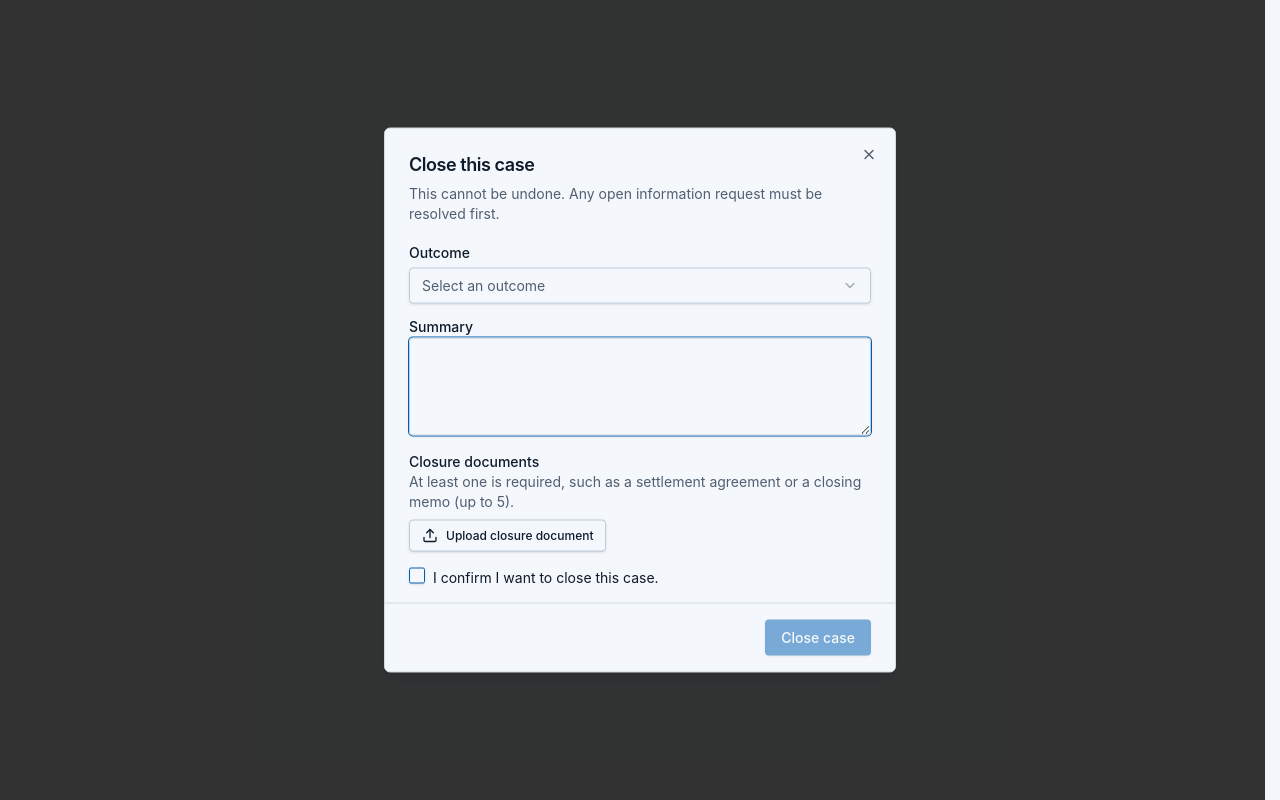
Test: useCloseCase › a stubbed 409 (open information requests) leaves the dialog open with the backend message
Later steps or results of the test are not shown.
Click the dropdown labelled "Select an outcome" at (484,285), box [409,267,871,303]
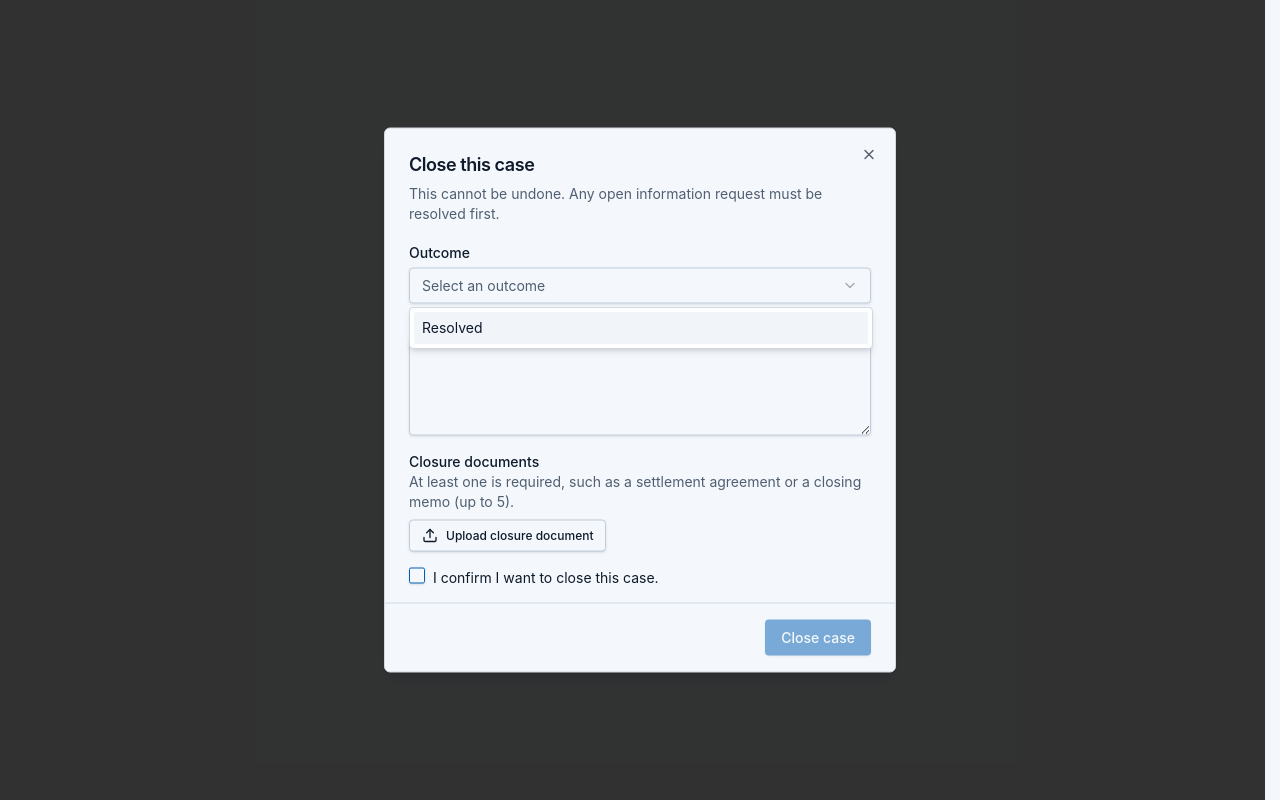
Click the option "Resolved" at (452,328), box [414,312,868,344]
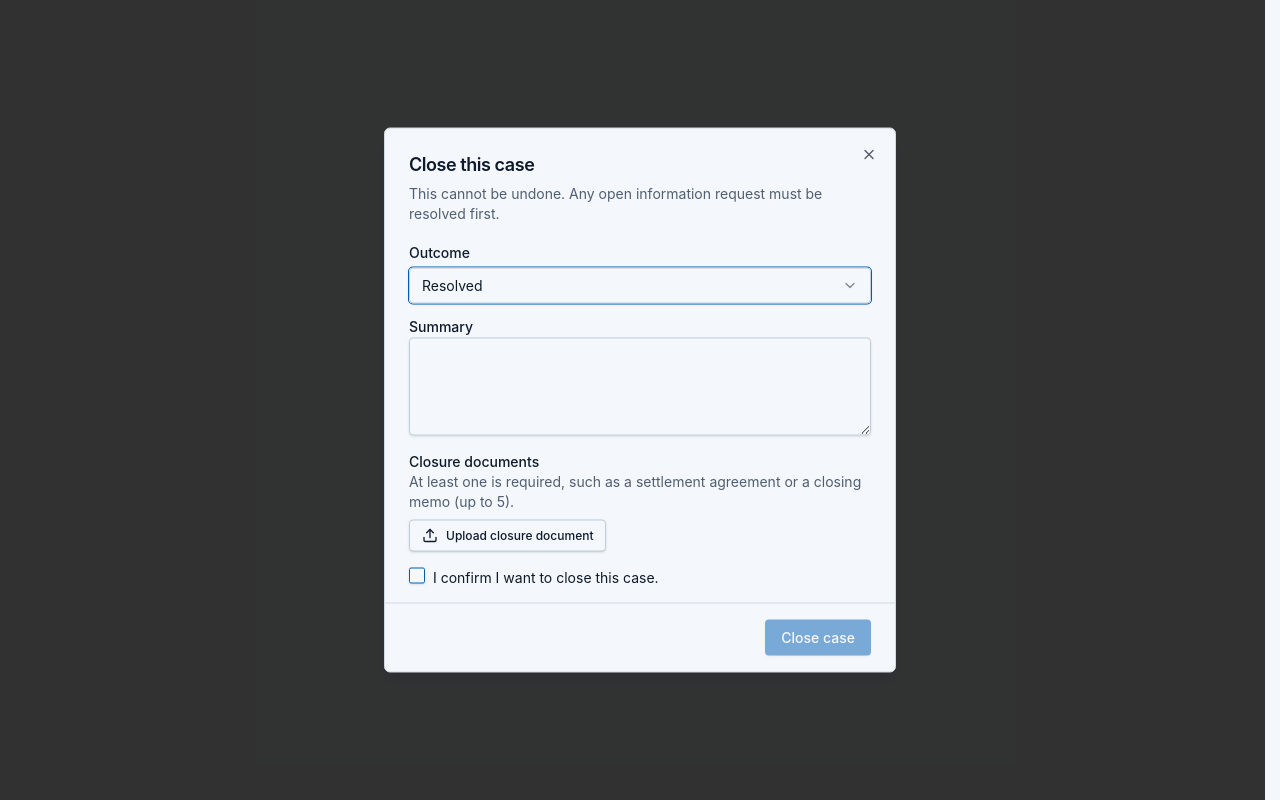
Type "Resolved by refund" into the text box labelled "Summary" at (640,386), box [409,337,871,435]
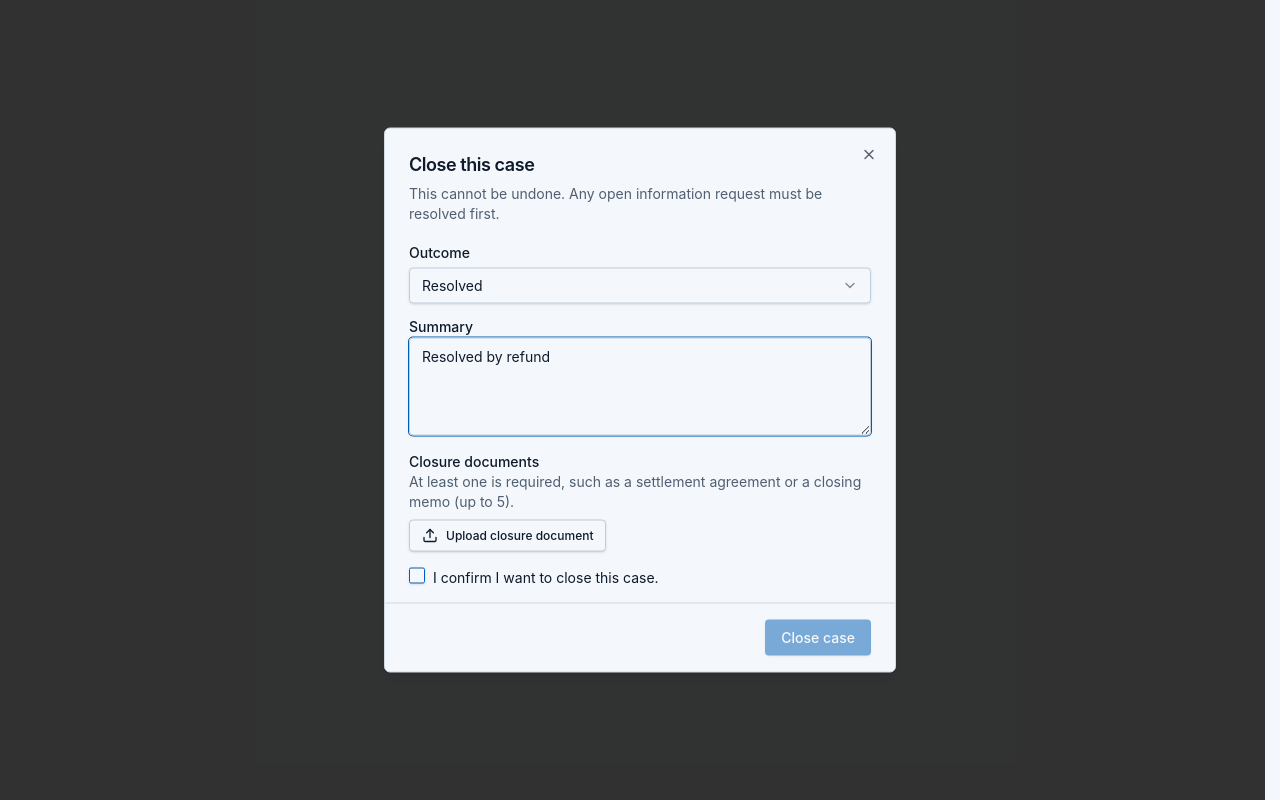
Click the checkbox at (417,575), box [409,567,425,583]
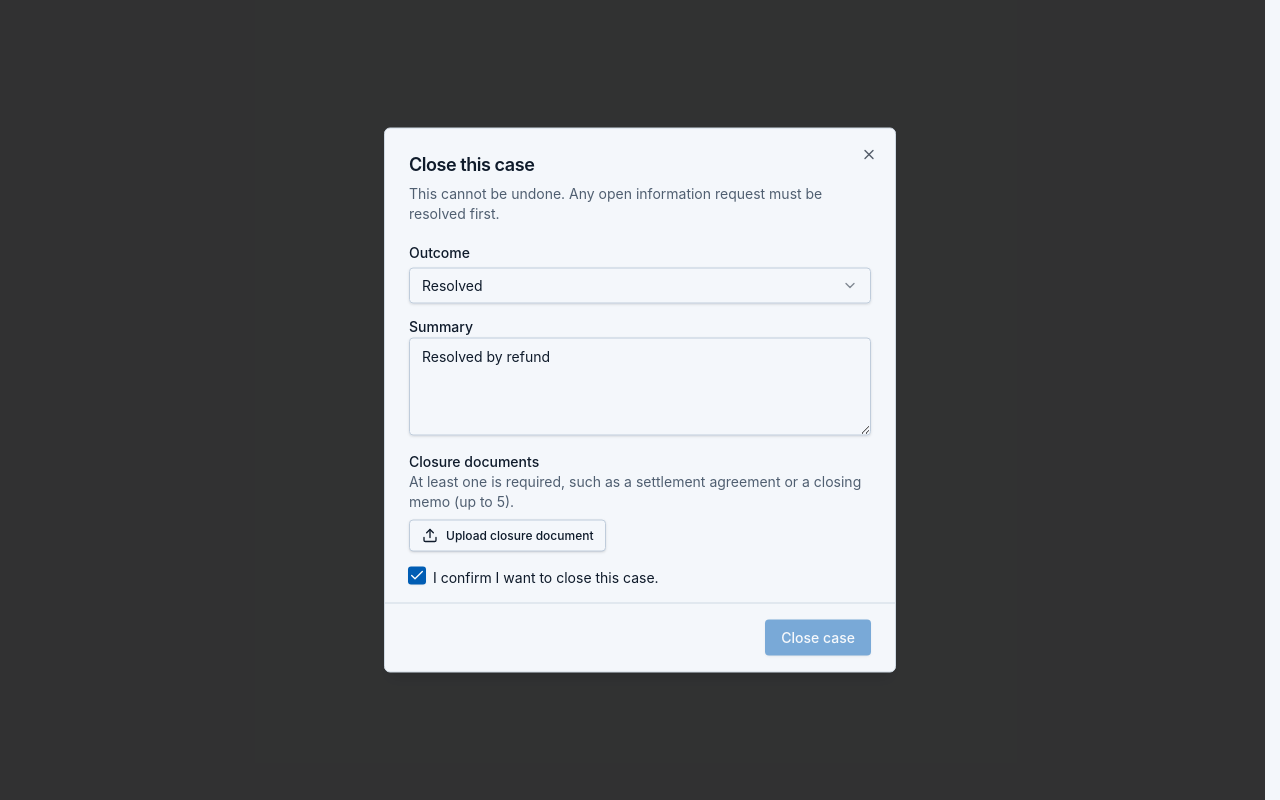
Click the button "Upload closure document" at (508,535), box [409,519,606,551]
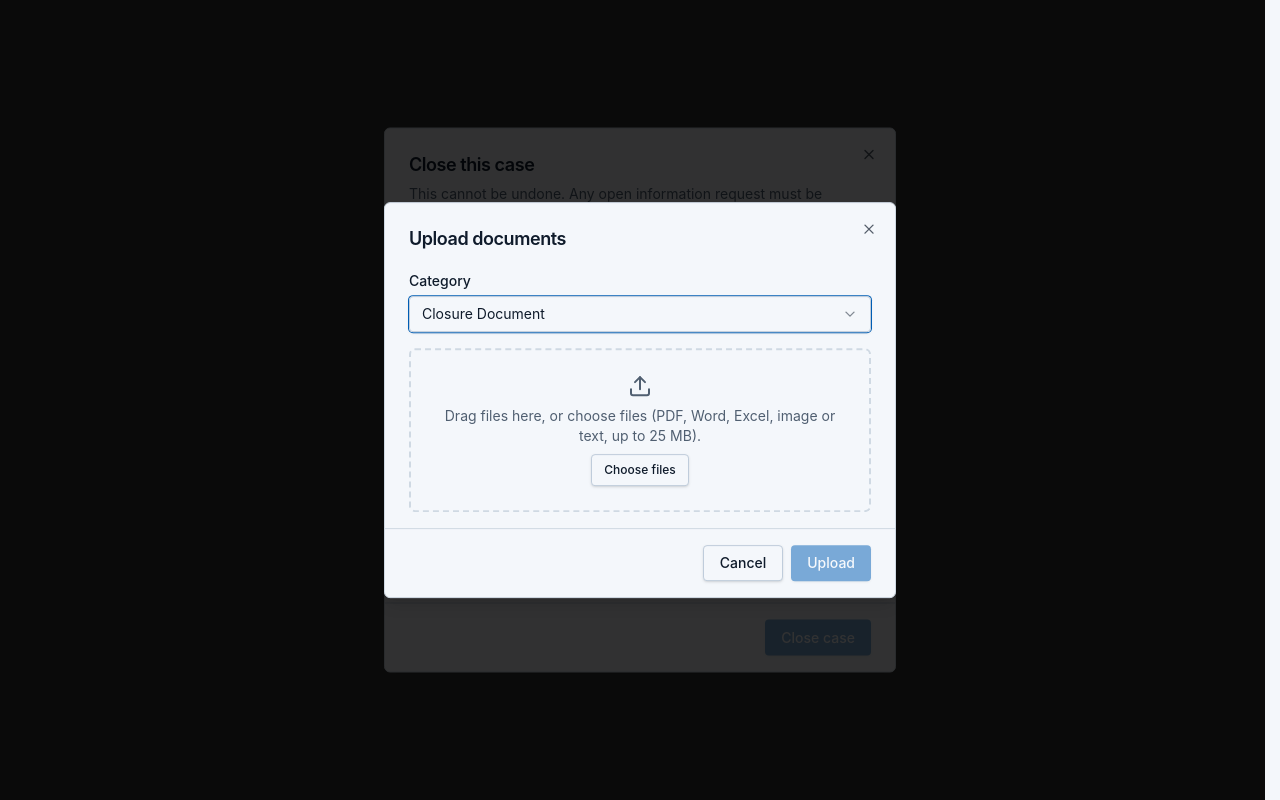
Result: the dropdown named "category" reads "Closure Document" at [409,296,871,332]
